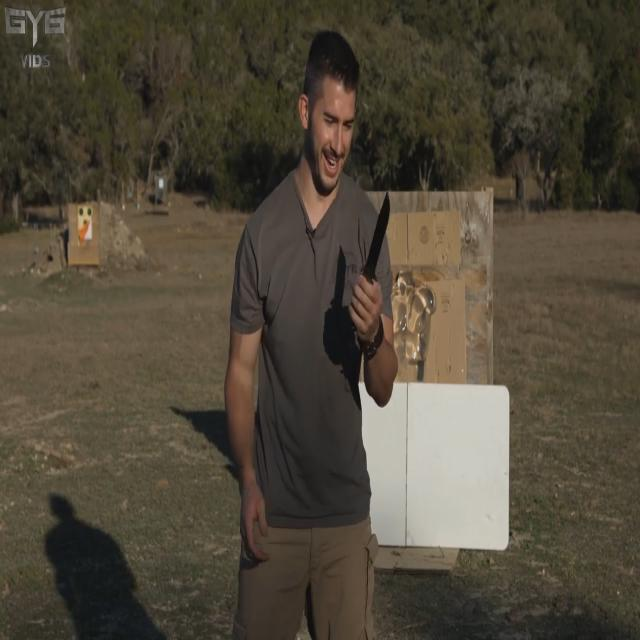knife: (362, 190, 396, 283)
